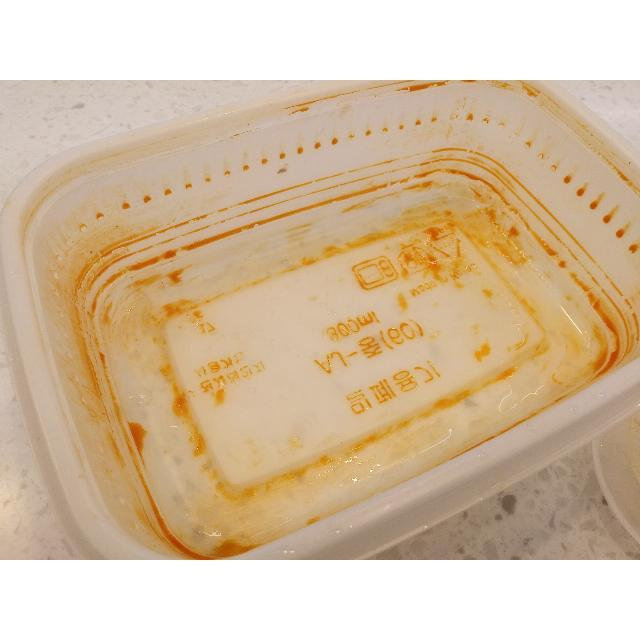Recipiente plastico: (0, 75, 640, 555)
